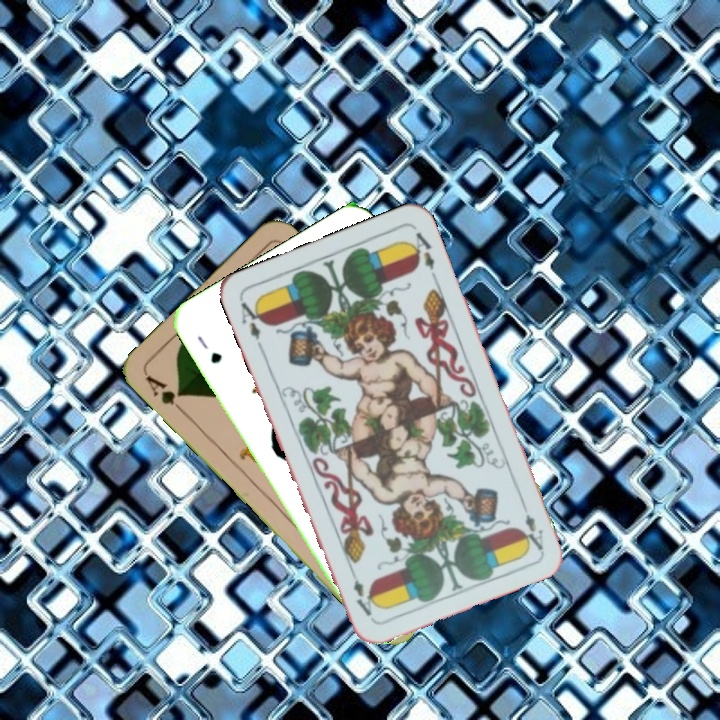EA: (236, 297, 267, 353), (520, 510, 546, 553)
GA: (141, 371, 189, 417)
GU: (192, 331, 225, 366)
